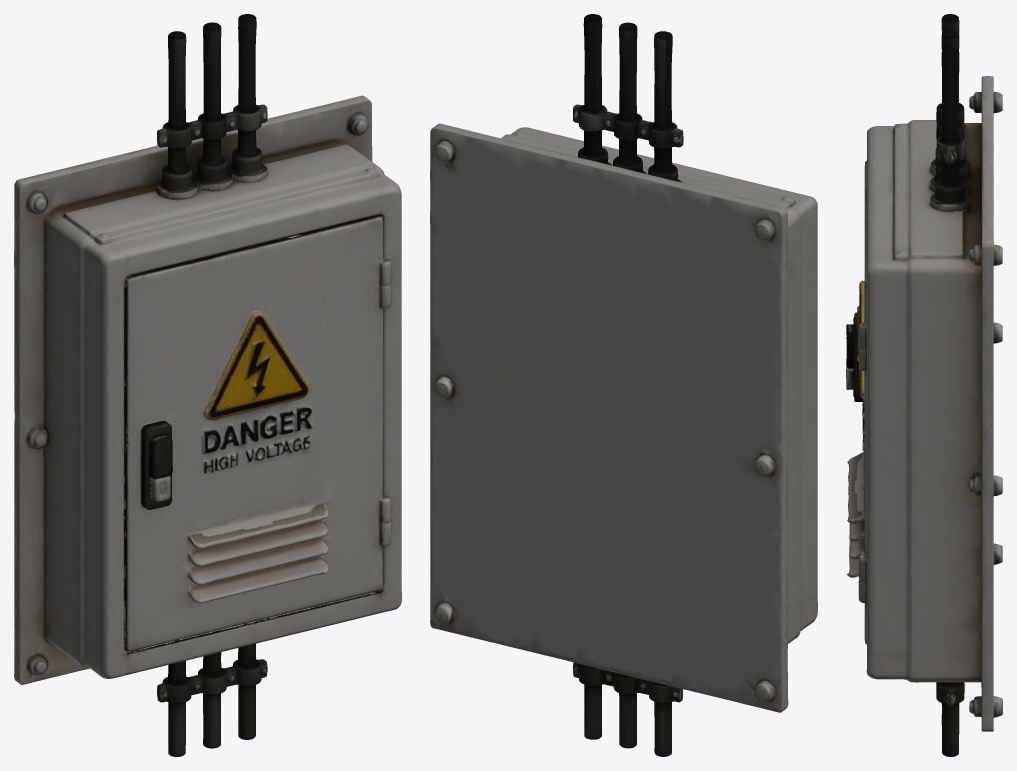
Rendered from tripo_convert_091b5e58-e4f6-4a28-96ca-d16e58d42de1.fbx.
3 renders of one model, left to right at view 1: azimuth 30°, elevation 25°; view 2: azimuth 150°, elevation 25°; view 3: azimuth 270°, elevation 25°, orthographic. The views are drawn at different scales.
Visible parts, largest first — view 1: tripo_node_091b5e58; view 2: tripo_node_091b5e58; view 3: tripo_node_091b5e58.
Boxes of the visible parts, box(x1,y1,x2,y2) form: tripo_node_091b5e58: box(14, 14, 401, 756); tripo_node_091b5e58: box(430, 14, 817, 756); tripo_node_091b5e58: box(846, 14, 1002, 756).
Size of the model in its own units: 51.33 by 20.21 by 100.
1 material, 1 textured.
